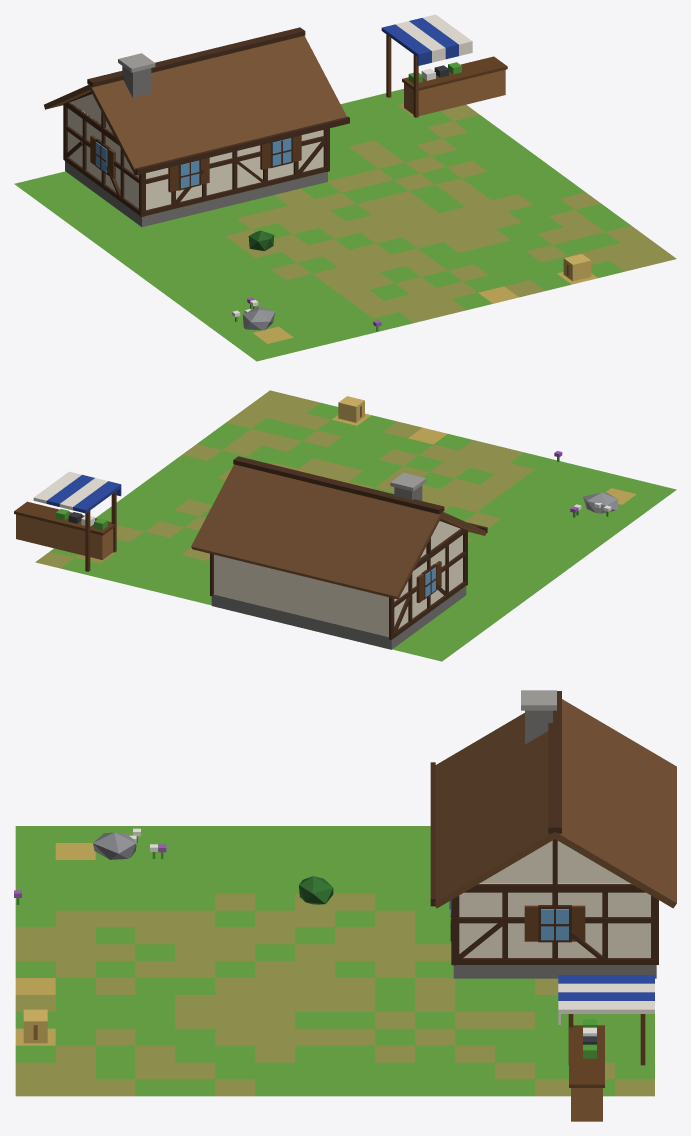
The model's file is chunk_9_6.glb.
The picture shows the model from 3 angles, top to bottom: view 1: azimuth 30°, elevation 25°; view 2: azimuth 150°, elevation 25°; view 3: azimuth 270°, elevation 25°; orthographic projection. The views are drawn at different scales.
Visible parts, largest first — view 1: chunk_9_6; view 2: chunk_9_6; view 3: chunk_9_6.
Part boxes in pixels (left/top/right/bottom): chunk_9_6: left=14, top=14, right=676, bottom=361; chunk_9_6: left=14, top=390, right=676, bottom=661; chunk_9_6: left=14, top=690, right=676, bottom=1121.
Size of the model in its own units: 17.55 by 5.22 by 16.59.
